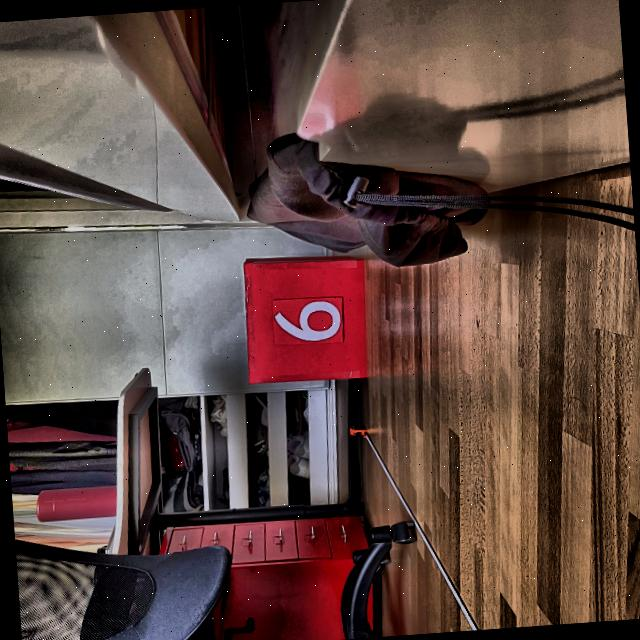red box: (238, 250, 372, 388)
six: (272, 298, 344, 344)
